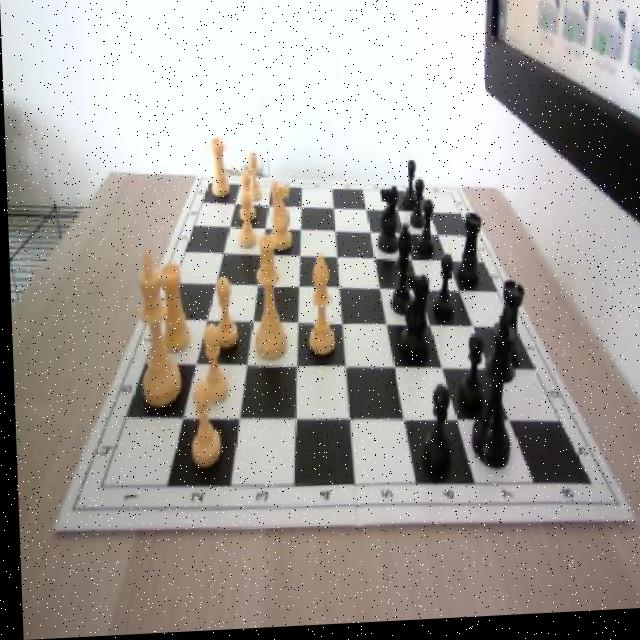bishop: (385, 227, 411, 325)
black-bishop: (464, 310, 515, 477)
black-king: (395, 278, 429, 371), (374, 187, 398, 258)
black-knight: (418, 391, 450, 480), (454, 335, 482, 421), (428, 256, 453, 327), (414, 206, 433, 262), (399, 165, 417, 217), (407, 183, 425, 232)
black-queen: (489, 282, 524, 372), (455, 215, 483, 292)
black-rook: (304, 253, 333, 360)
white-bishop: (129, 253, 179, 409)
white-king: (266, 184, 292, 255)
white-knight: (184, 383, 219, 473), (199, 326, 231, 410), (208, 277, 236, 350), (235, 194, 256, 251), (236, 171, 253, 225), (245, 153, 259, 203)
white-pawn: (248, 235, 285, 363)
white-queen: (155, 265, 189, 355), (209, 140, 229, 201)
